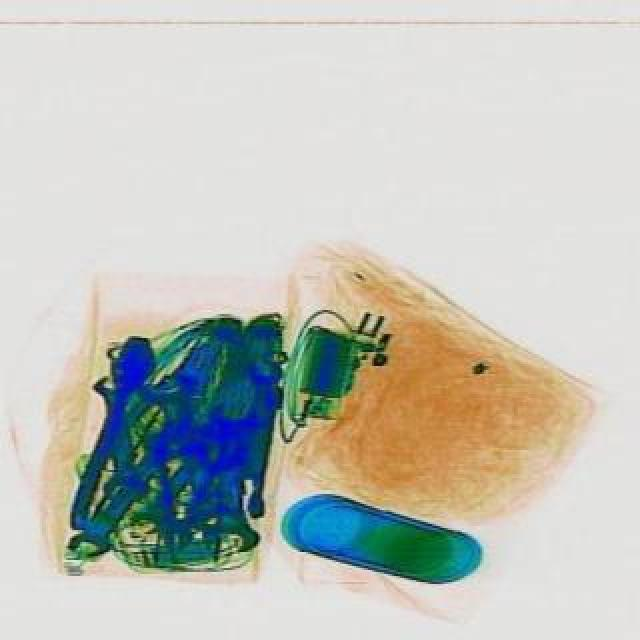scissors: (62, 448, 166, 564), (198, 400, 260, 554), (118, 454, 202, 538), (88, 372, 146, 492)
wrench: (86, 328, 238, 516)
